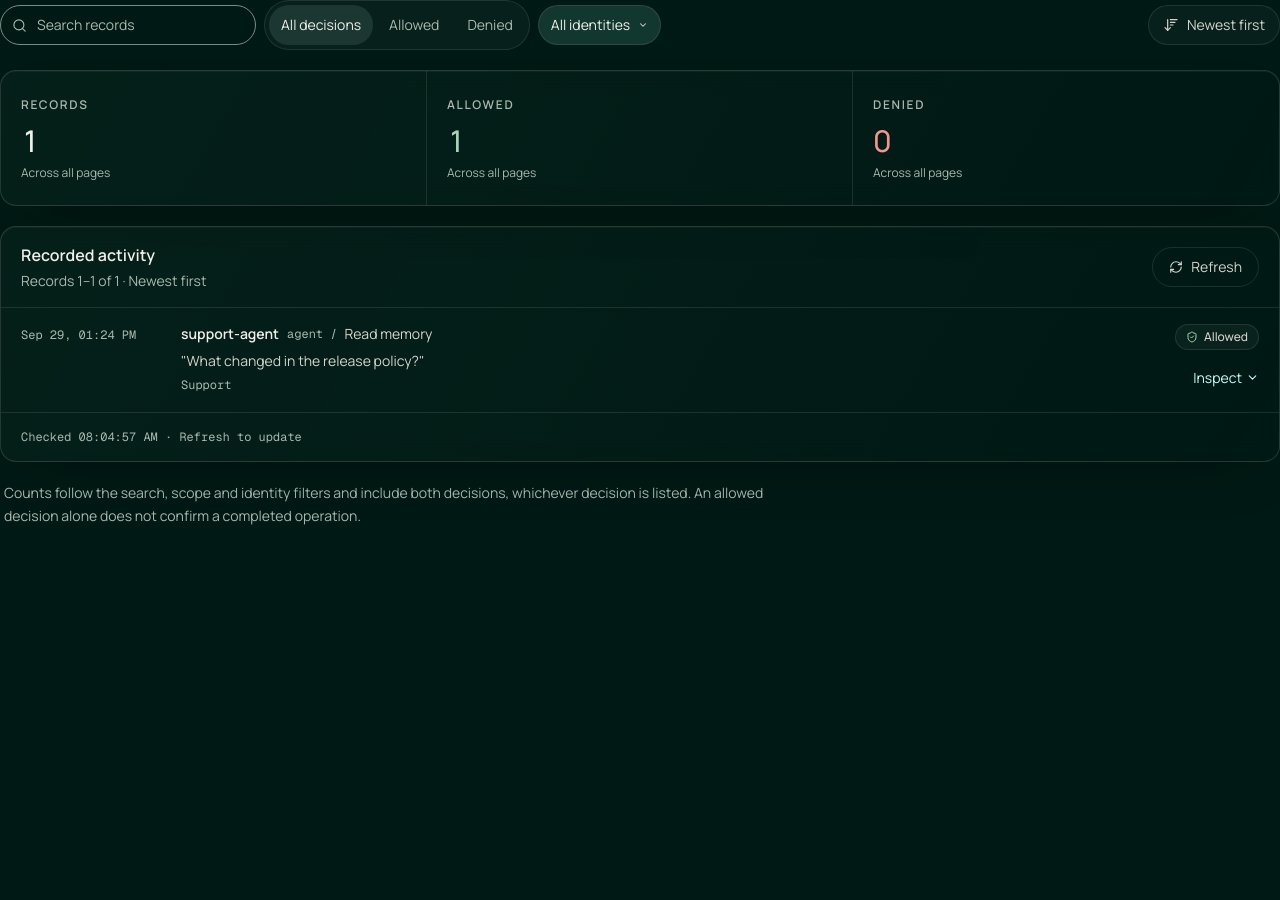
Test: AuditLog observability › clears displayed records and open details before a refresh that returns HTTP 401
Click the button with aria-label "Inspect event audit_01".
click(1226, 378)  # box [1193,362,1259,394]
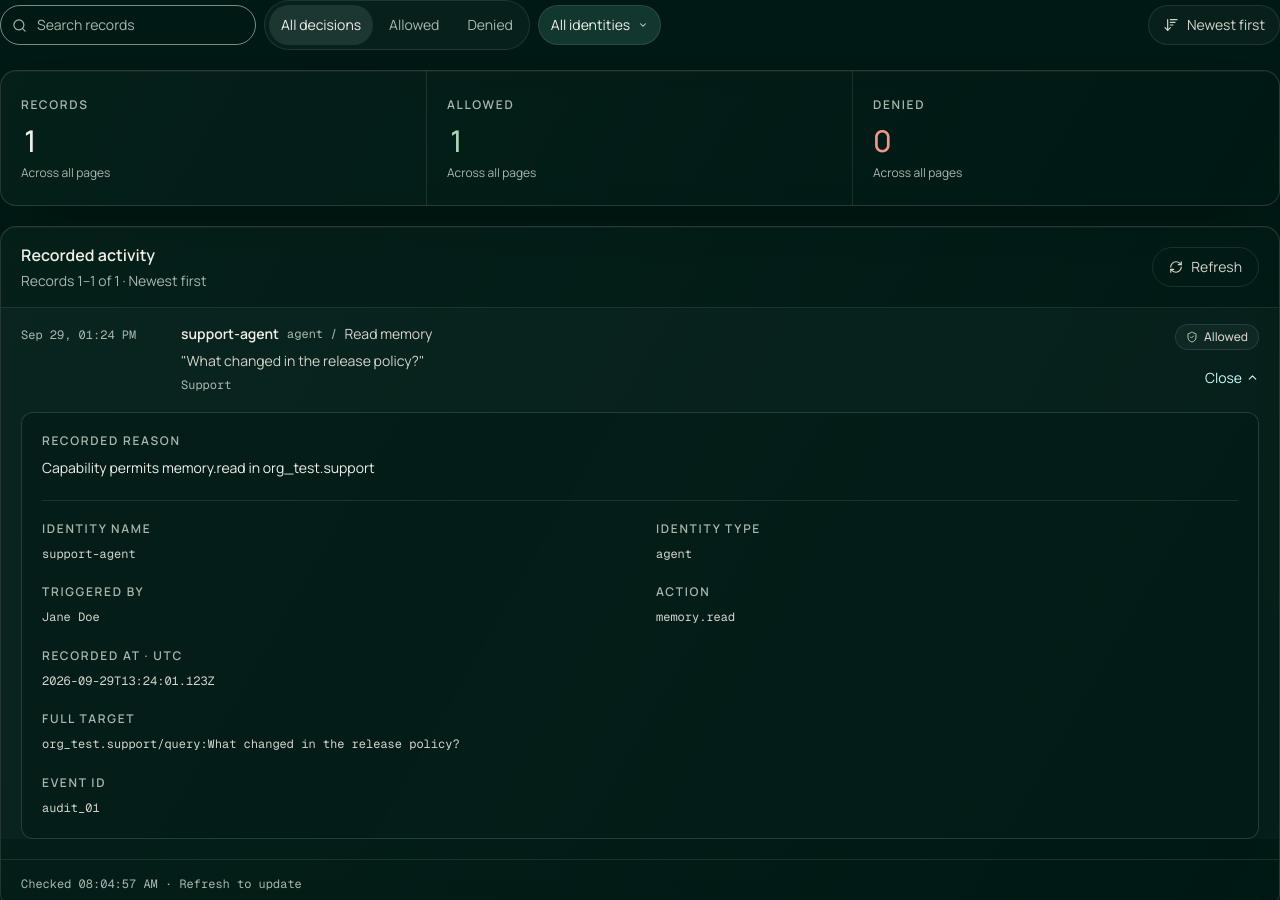
Expected: the text "Capability permits memory.read in org_test.support" is shown, [42,458,375,477]
Click the button "Refresh".
click(1206, 266)  # box [1152,246,1259,286]
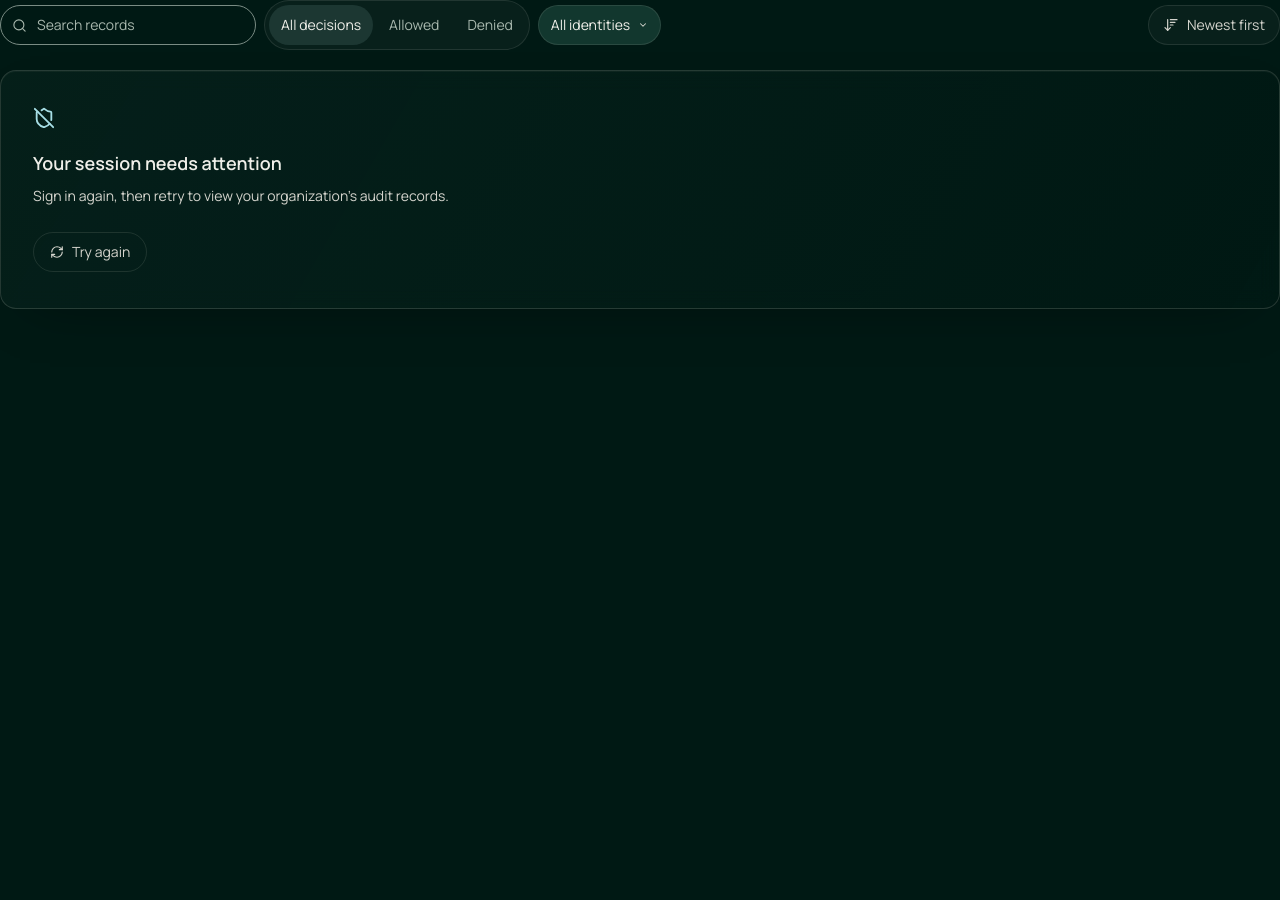
Expected: the heading "Your session needs attention" is shown, [33,149,282,177]
Expected: the text "Capability permits memory.read in org_test.support" is gone
